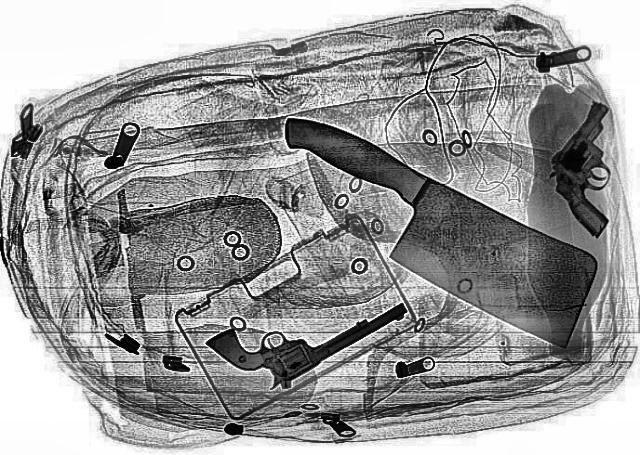Gun: (200, 263, 416, 393), (548, 104, 610, 237)
Knife: (217, 106, 638, 354)
